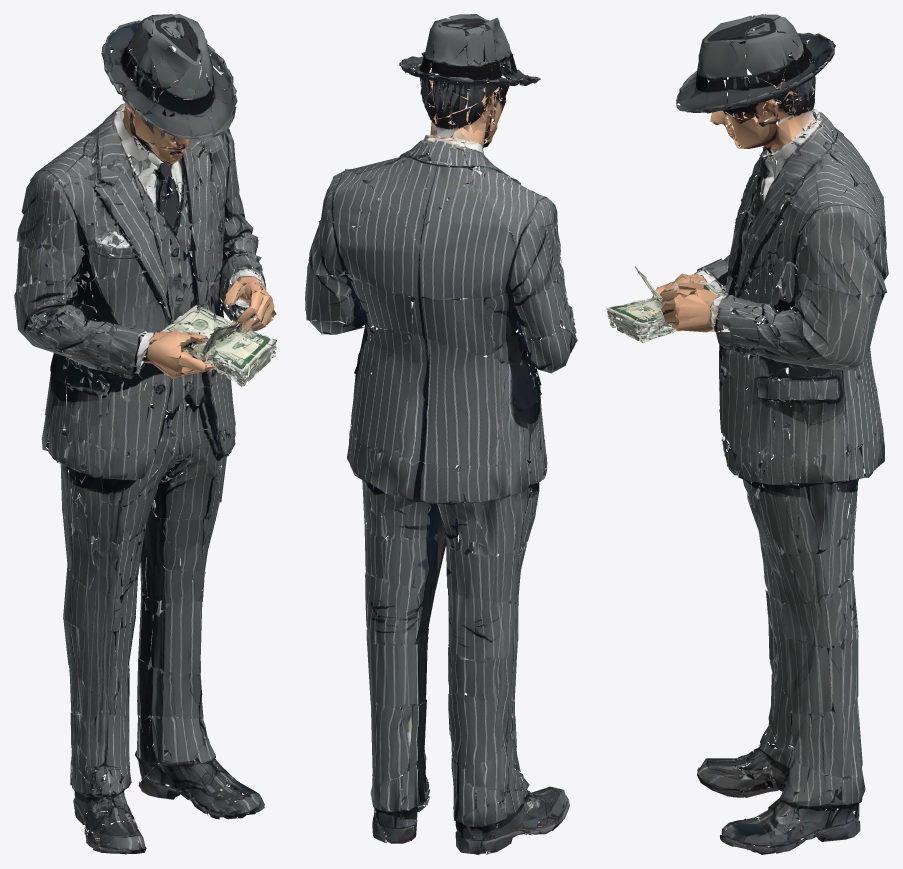
The picture shows the model from 3 angles, left to right: view 1: azimuth 30°, elevation 25°; view 2: azimuth 150°, elevation 25°; view 3: azimuth 270°, elevation 25°; orthographic projection.
Parts seen in each view (by area): view 1: Object_6, Object_5, Object_7; view 2: Object_6, Object_7, Object_5; view 3: Object_6, Object_7, Object_5.
Boxes of the visible parts, x1,y1,x2,y2 form: Object_6: (14, 18, 264, 847); Object_5: (57, 30, 276, 854); Object_7: (32, 14, 260, 838); Object_6: (305, 17, 577, 854); Object_7: (333, 18, 576, 839); Object_5: (410, 14, 569, 832); Object_6: (703, 14, 888, 854); Object_7: (736, 14, 823, 853); Object_5: (606, 27, 786, 845).
Size of the model in its own units: 0.6018 by 1.9 by 0.6104.
Materials: 1 (1 with a texture image).
